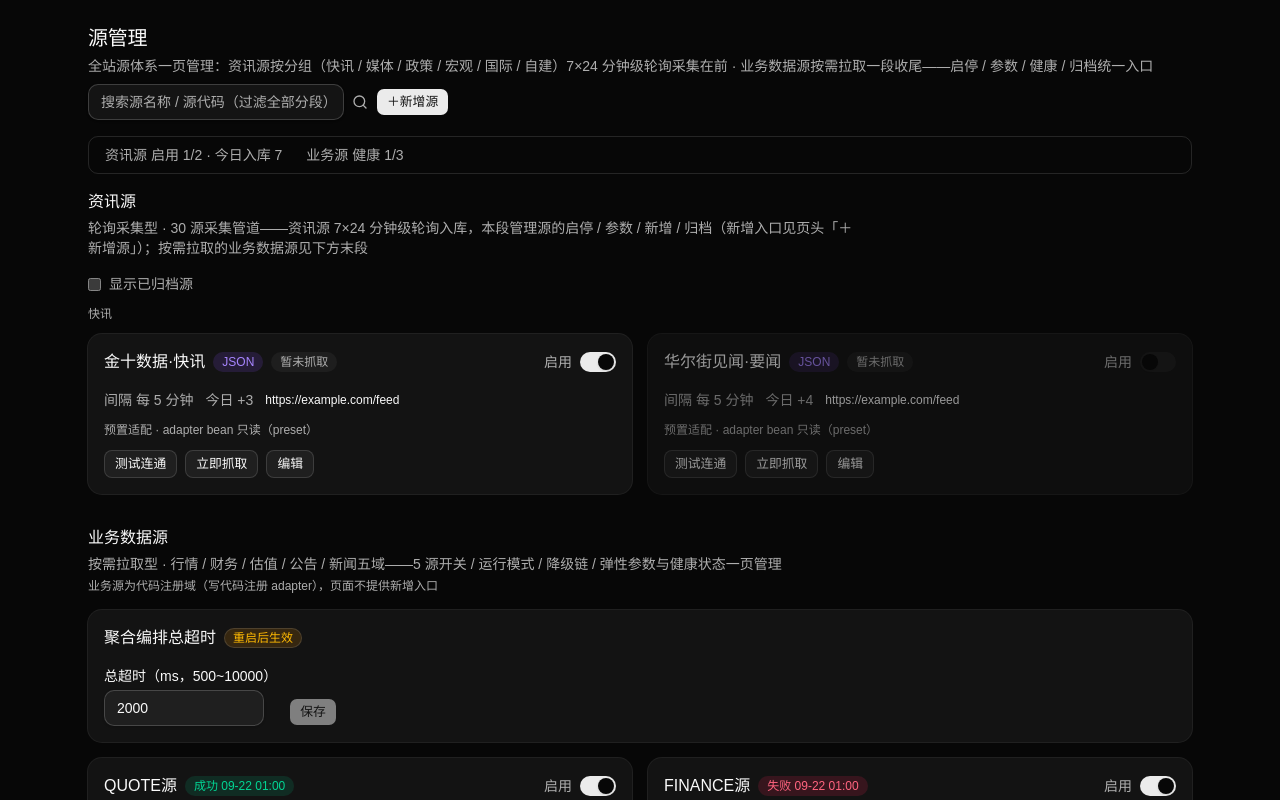
Sources 源管理页（V2.4 T212 单列表分组） › 场景 2 新增入口唯一：页头「＋新增源」打开新增 Dialog；面板段无第二入口，业务段明示代码注册域
The width and height of the screenshot is (1280, 800).
Expected: the text with test id "page-header-subtitle" shows "全站源体系一页管理", [88,58,1153,74]
Expected: the element with test id "info-source-card-jin10_flash" is shown, [88,334,632,494]
Click the button with test id "sources-add". click: (413, 102)
box: [376,88,449,116]
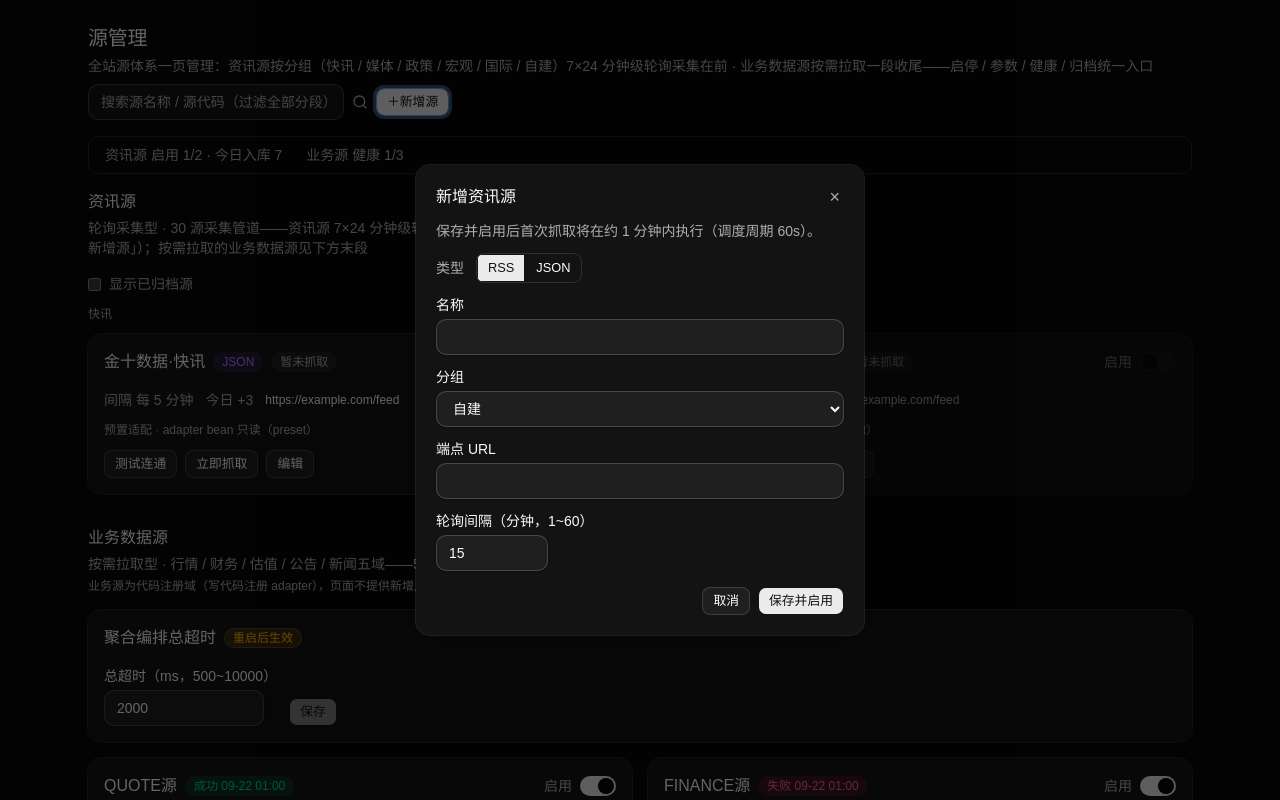
Expected: the button with test id "info-source-add-save" is shown, [758,587,844,615]
